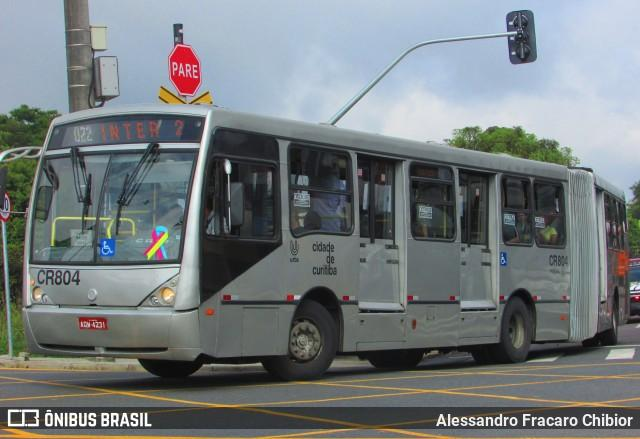INTER2: (97, 115, 191, 143)
